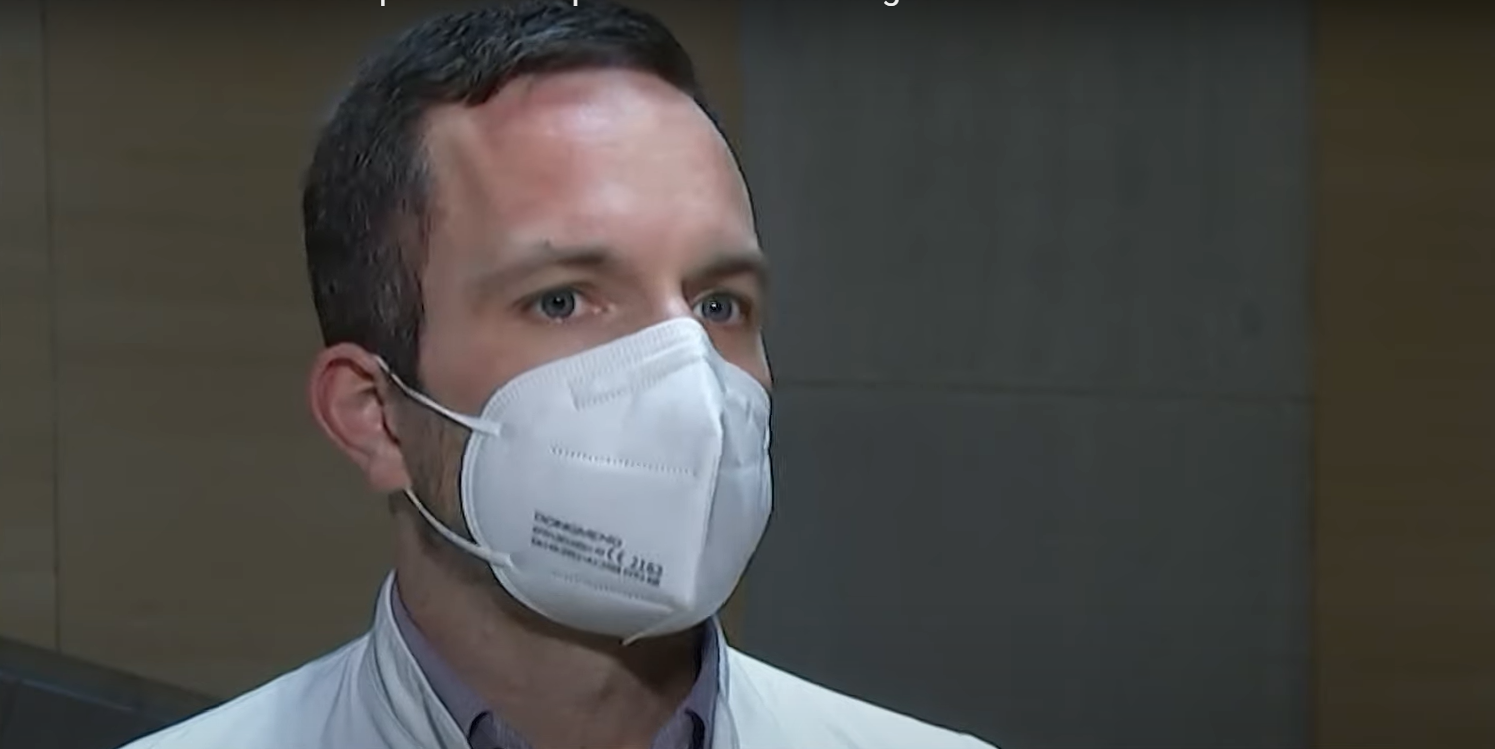with_mask: (444, 232, 752, 592)
